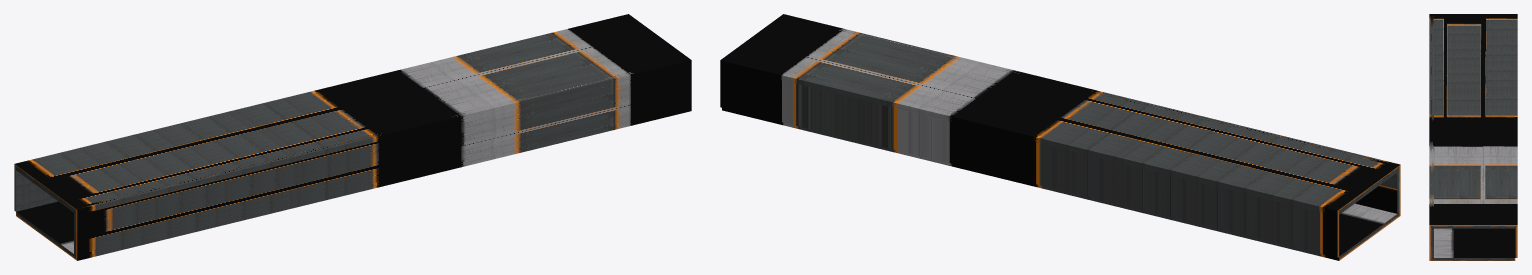
The model's file is boxxx.fbx.
3 renders of one model, left to right at view 1: azimuth 30°, elevation 25°; view 2: azimuth 150°, elevation 25°; view 3: azimuth 270°, elevation 25°, orthographic. The views are drawn at different scales.
Visible parts, largest first — view 1: Box004; view 2: Box004; view 3: Box004.
Part boxes in pixels (box(x1,y1,x2,y2)): Box004: box(14, 14, 691, 260); Box004: box(720, 14, 1400, 260); Box004: box(1429, 14, 1517, 260).
Size of the model in its own units: 1.19 by 0.0943 by 0.2105.
